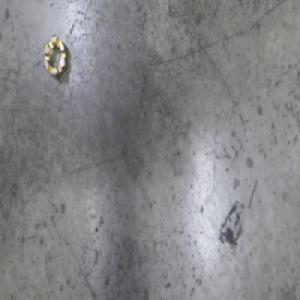Nut: (42, 34, 69, 83)
